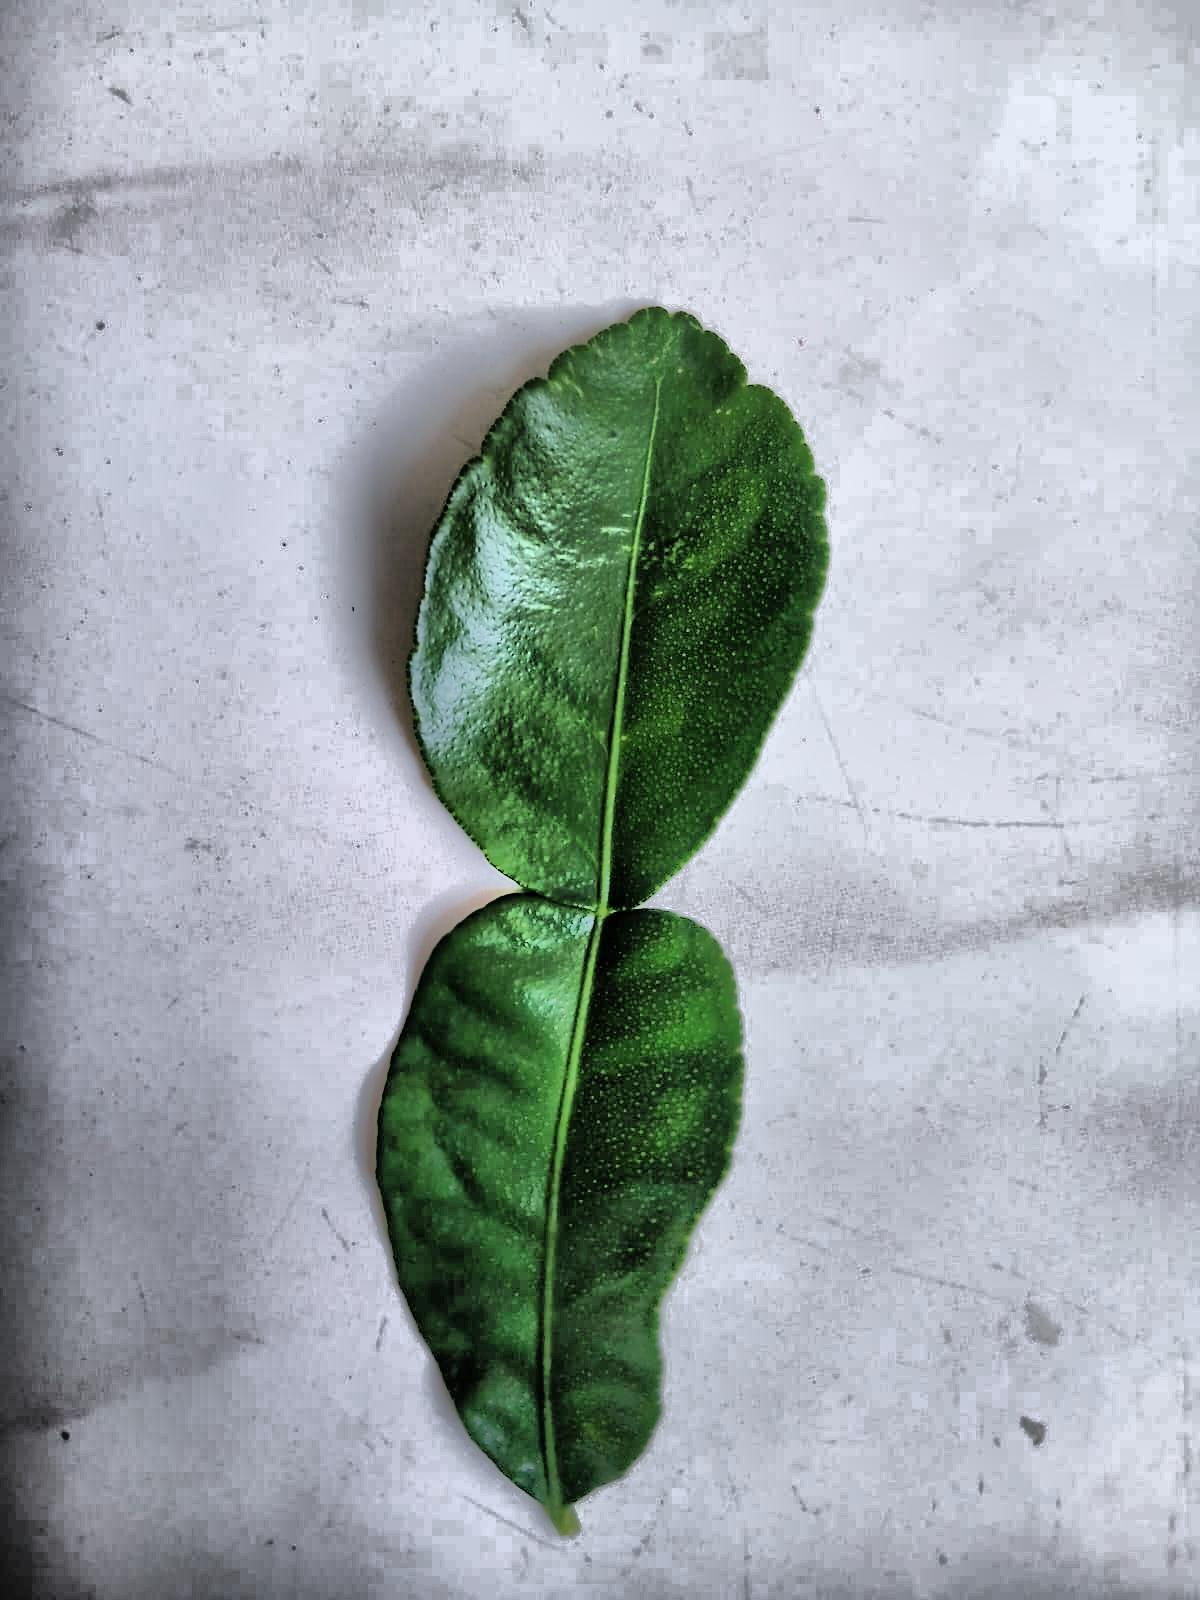daun jeruk: (374, 307, 827, 1534)
